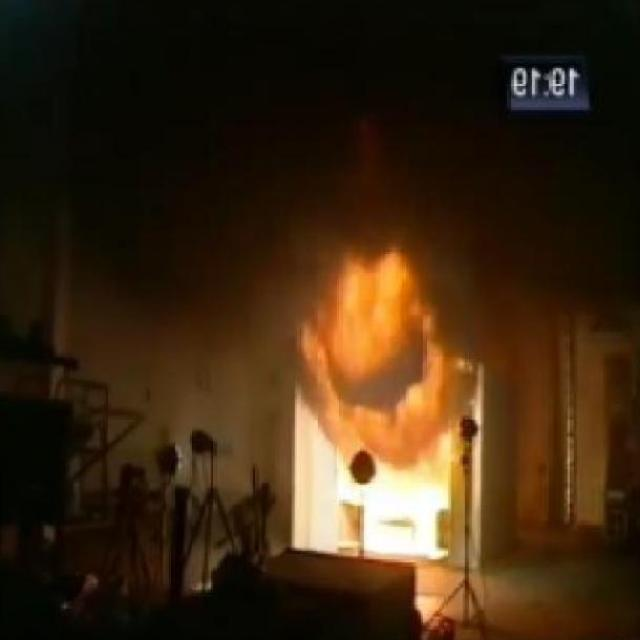smoke: (333, 463, 458, 551)
